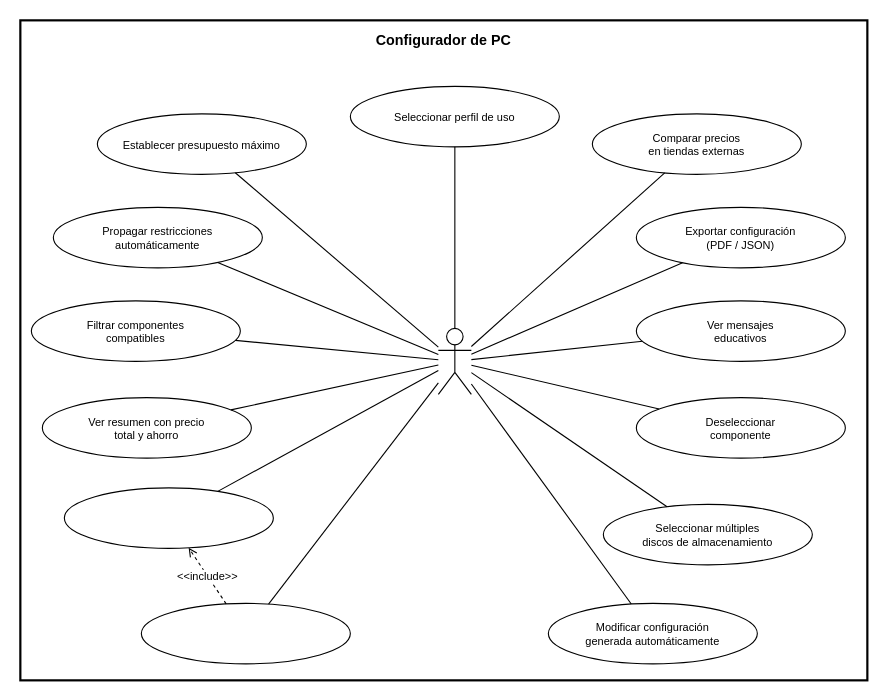
This 887x700 diagram has some shape labels left out. The shapes that lost their labels are listed below. From the top down, each one's box as (x1, y1, x2, y2) in pixels, then its label:
(437, 327, 471, 394): Usuario
(63, 487, 273, 548): Generar configuración automática
(140, 602, 350, 664): Consultar en lenguaje natural (IA)
